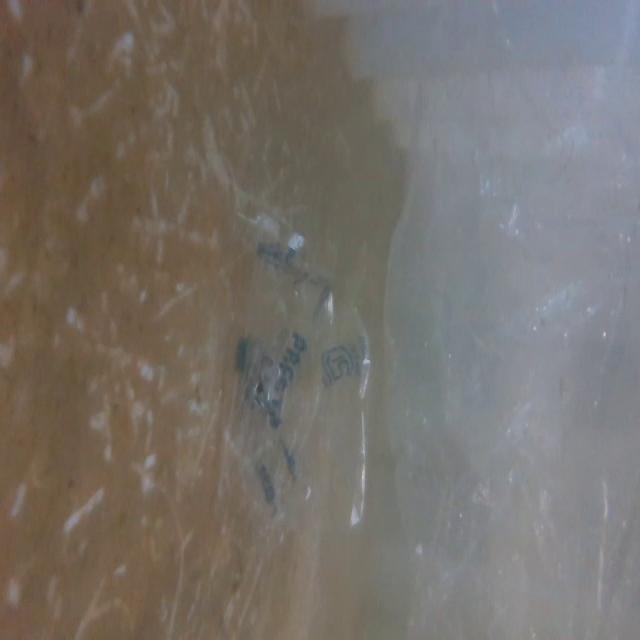plastic bags: (381, 0, 640, 640), (229, 204, 379, 570)
